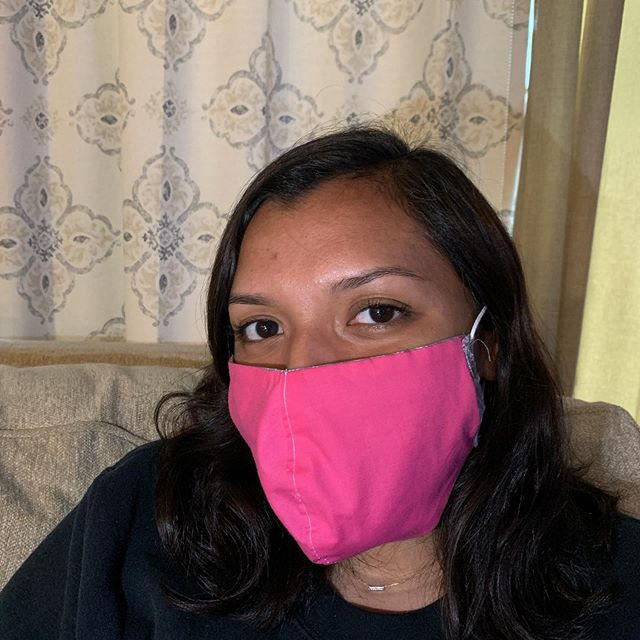homemade: (209, 342, 495, 567)
